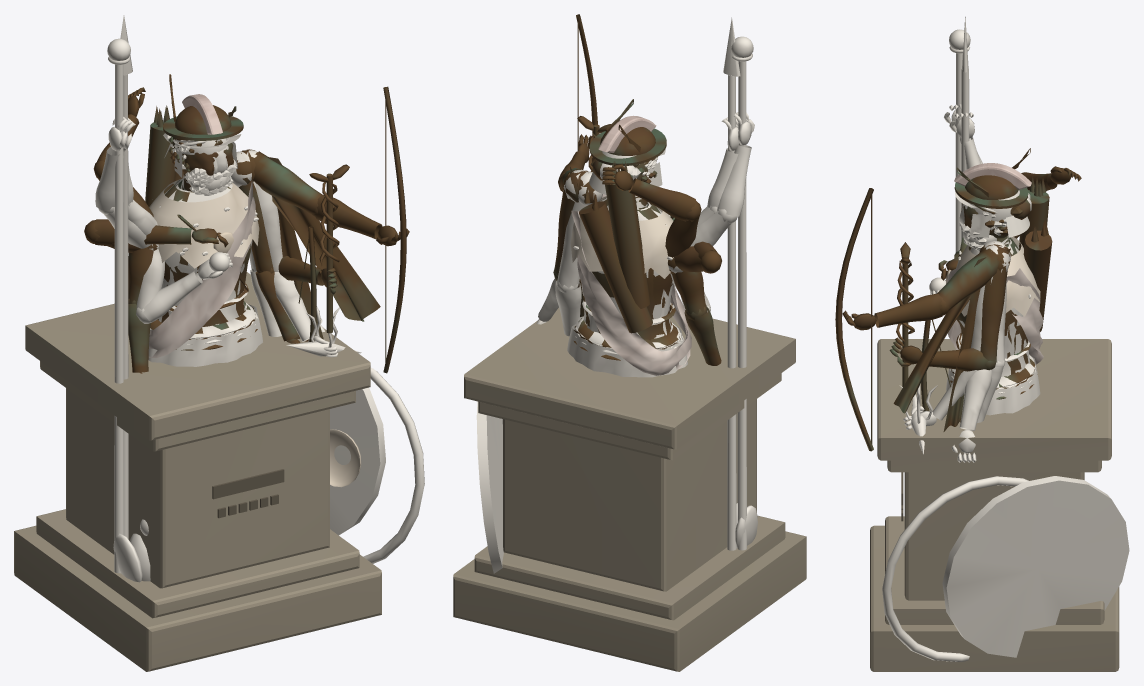
Rendered from statues.glb.
The picture shows the model from 3 angles, left to right: view 1: azimuth 30°, elevation 25°; view 2: azimuth 150°, elevation 25°; view 3: azimuth 270°, elevation 25°; orthographic projection. The views are drawn at different scales.
Visible parts, largest first — view 1: Apollo_Pedestal_Part_stone, Minerva_Attr_marble, Apollo_ArmL_bronze, Jupiter_Attr_marble, Minerva_Torso_marble, Jupiter_Torso_marble, Mercury_Attr_bronze, Jupiter_ArmL_marble, Diana_Attr_bronze, Venus_ArmR_marble, Minerva_Legs_marble, Apollo_Attr_bronze (+10 smaller); view 2: Apollo_Pedestal_Part_stone, Minerva_Attr_marble, Jupiter_Torso_marble, Jupiter_Attr_marble, Apollo_Attr_bronze, Minerva_Torso_marble, Diana_Attr_bronze, Diana_ArmR_bronze, Jupiter_ArmR_marble, Mercury_Attr_bronze, Mercury_ArmR_bronze, Venus_ArmL_marble (+8 smaller); view 3: Apollo_Pedestal_Part_stone, Minerva_Attr_marble, Apollo_ArmL_bronze, Mercury_ArmL_bronze, Apollo_Attr_bronze, Mercury_Attr_bronze, Minerva_Torso_marble, Jupiter_Attr_marble, Jupiter_Torso_marble, Minerva_ArmL_marble, Jupiter_ArmL_marble, Diana_Attr_bronze (+6 smaller).
Part boxes in pixels (x1=…): Apollo_Pedestal_Part_stone: x1=14, y1=272, x2=381, y2=671; Minerva_Attr_marble: x1=120, y1=15, x2=424, y2=563; Apollo_ArmL_bronze: x1=249, y1=150, x2=409, y2=321; Jupiter_Attr_marble: x1=107, y1=38, x2=361, y2=582; Minerva_Torso_marble: x1=149, y1=179, x2=259, y2=338; Jupiter_Torso_marble: x1=149, y1=178, x2=257, y2=357; Mercury_Attr_bronze: x1=163, y1=74, x2=349, y2=333; Jupiter_ArmL_marble: x1=243, y1=150, x2=338, y2=357; Diana_Attr_bronze: x1=145, y1=105, x2=316, y2=341; Venus_ArmR_marble: x1=136, y1=246, x2=232, y2=323; Minerva_Legs_marble: x1=148, y1=304, x2=262, y2=366; Apollo_Attr_bronze: x1=175, y1=86, x2=406, y2=373; Apollo_Pedestal_Part_stone: x1=453, y1=307, x2=806, y2=671; Minerva_Attr_marble: x1=476, y1=17, x2=740, y2=573; Jupiter_Torso_marble: x1=571, y1=194, x2=691, y2=375; Jupiter_Attr_marble: x1=731, y1=36, x2=757, y2=550; Apollo_Attr_bronze: x1=576, y1=14, x2=673, y2=333; Minerva_Torso_marble: x1=570, y1=196, x2=680, y2=348; Diana_Attr_bronze: x1=605, y1=161, x2=671, y2=308; Diana_ArmR_bronze: x1=602, y1=164, x2=701, y2=256; Jupiter_ArmR_marble: x1=668, y1=112, x2=754, y2=273; Mercury_Attr_bronze: x1=577, y1=99, x2=666, y2=171; Mercury_ArmR_bronze: x1=669, y1=257, x2=721, y2=365; Venus_ArmL_marble: x1=555, y1=171, x2=602, y2=336; Apollo_Pedestal_Part_stone: x1=870, y1=339, x2=1119, y2=671; Minerva_Attr_marble: x1=882, y1=16, x2=1129, y2=661; Apollo_ArmL_bronze: x1=842, y1=247, x2=1010, y2=413; Mercury_ArmL_bronze: x1=889, y1=244, x2=1010, y2=431; Apollo_Attr_bronze: x1=835, y1=188, x2=1052, y2=451; Mercury_Attr_bronze: x1=896, y1=148, x2=1030, y2=386; Minerva_Torso_marble: x1=945, y1=237, x2=1040, y2=387; Jupiter_Attr_marble: x1=899, y1=29, x2=970, y2=454; Jupiter_Torso_marble: x1=946, y1=238, x2=1043, y2=393; Minerva_ArmL_marble: x1=951, y1=241, x2=1010, y2=462; Jupiter_ArmL_marble: x1=903, y1=244, x2=1010, y2=429; Diana_Attr_bronze: x1=921, y1=176, x2=1049, y2=422.
Bounding box in the file's own units: 1.22 × 2.54 × 1.18.
